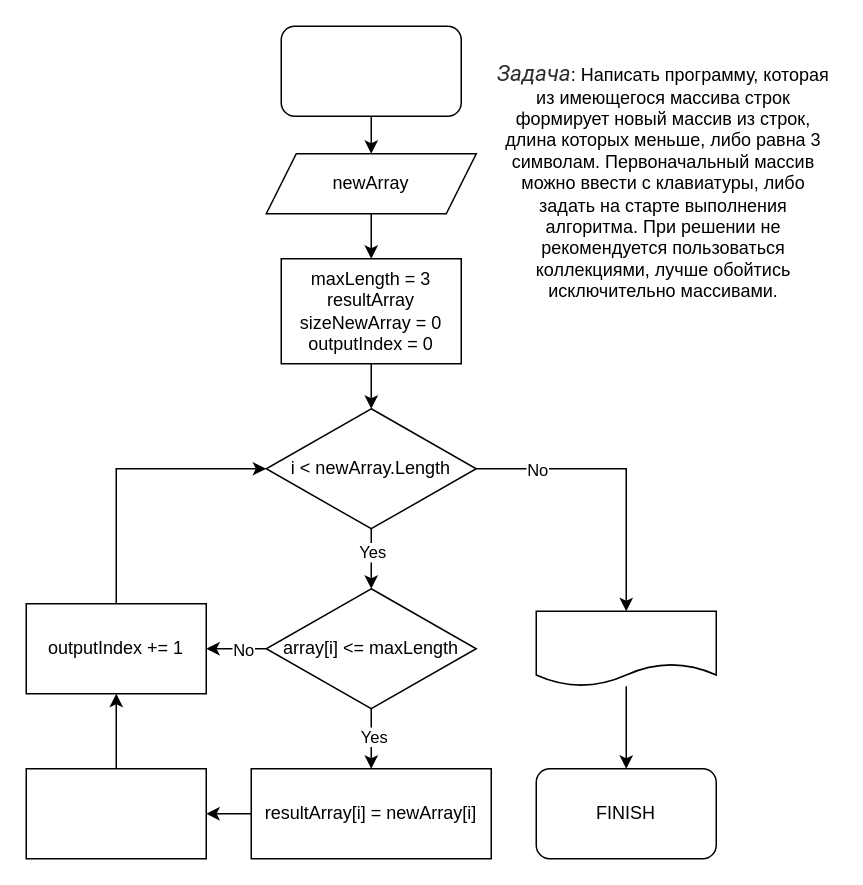
The diagram is 863 pixels wide and 885 high, and some of its shapes have lost their labels. Each missing label, with the centre of its shape:
resultArray: point 625,648
sizeNewArray += 1: point 115,813
START: point 370,70
